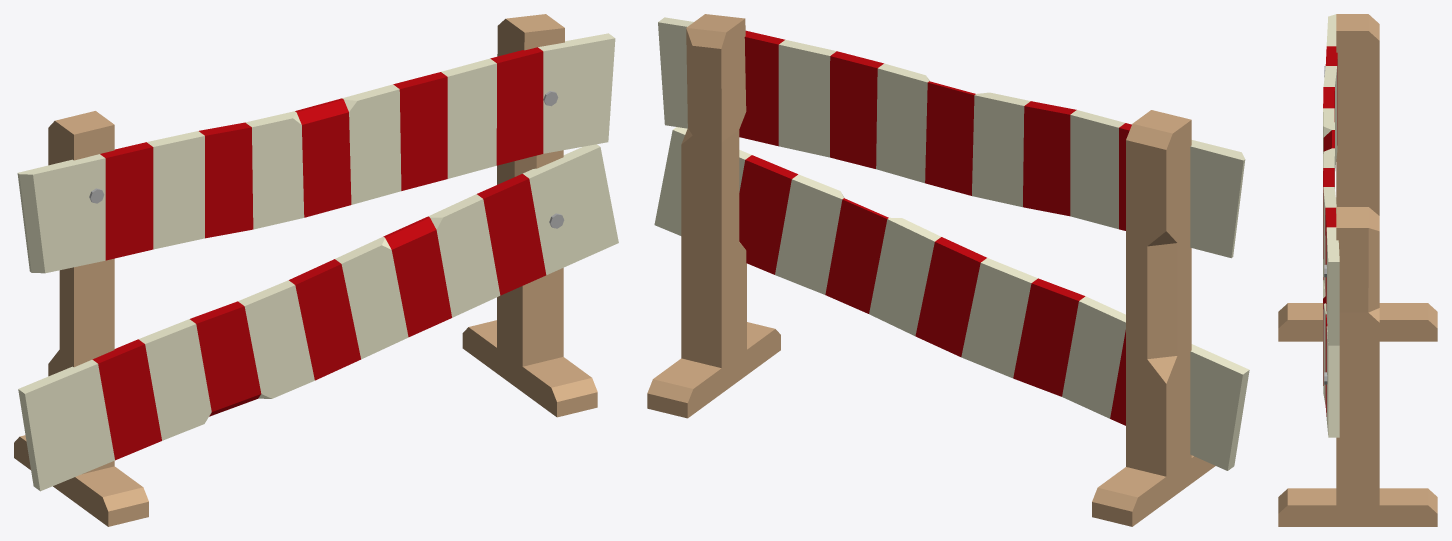
Rendered from barriereBroke.fbx.
3 views of the same model, side by side, from view 1: azimuth 30°, elevation 25°; view 2: azimuth 150°, elevation 25°; view 3: azimuth 270°, elevation 25° (orthographic). The views are drawn at different scales.
Parts seen in each view (by area): view 1: Cube.009; view 2: Cube.009; view 3: Cube.009.
Part boxes in pixels (x1,y1,x2,y2): Cube.009: [14, 14, 618, 526]; Cube.009: [647, 14, 1249, 526]; Cube.009: [1278, 14, 1437, 526].
Size of the model in its own units: 729 by 430 by 200.
1 material, 1 textured.
